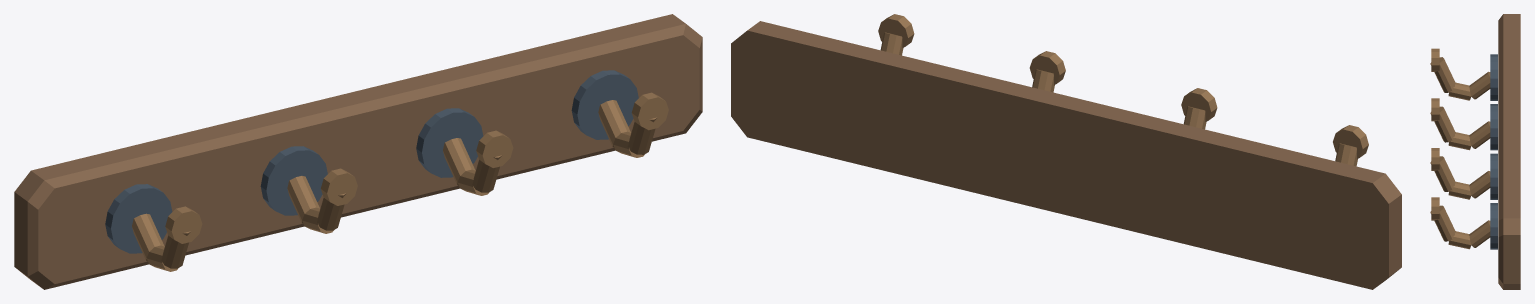
The model's file is W-11_coat_hooks.glb.
3 views of the same model, side by side, from view 1: azimuth 30°, elevation 25°; view 2: azimuth 150°, elevation 25°; view 3: azimuth 270°, elevation 25° (orthographic). The views are drawn at different scales.
Visible parts, largest first — view 1: W-11_coat_hooks; view 2: W-11_coat_hooks; view 3: W-11_coat_hooks.
Part boxes in pixels (x1=…): W-11_coat_hooks: x1=14, y1=14, x2=702, y2=289; W-11_coat_hooks: x1=731, y1=14, x2=1401, y2=289; W-11_coat_hooks: x1=1430, y1=14, x2=1520, y2=289.
Size of the model in its own units: 0.612 by 0.095 by 0.1088.
